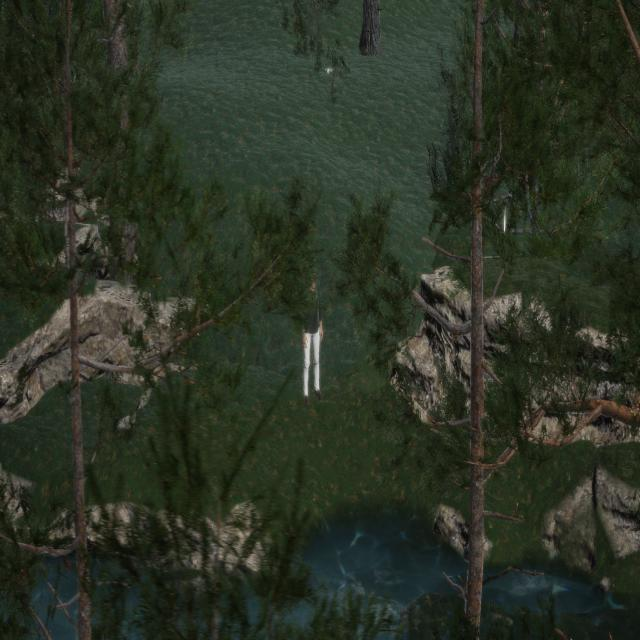Human: (288, 263, 332, 421)
